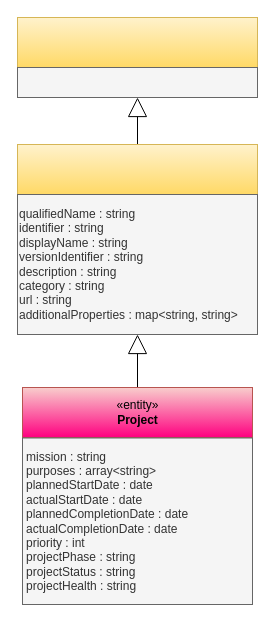
Image size: 275x622. Some labels were removed from this diagram. Here are the shapes that lost their labels. From the top down, the centre of each, then its label:
the point at 137,42: «entity» OpenMetadataRoot
the point at 137,169: «entity» Referenceable
